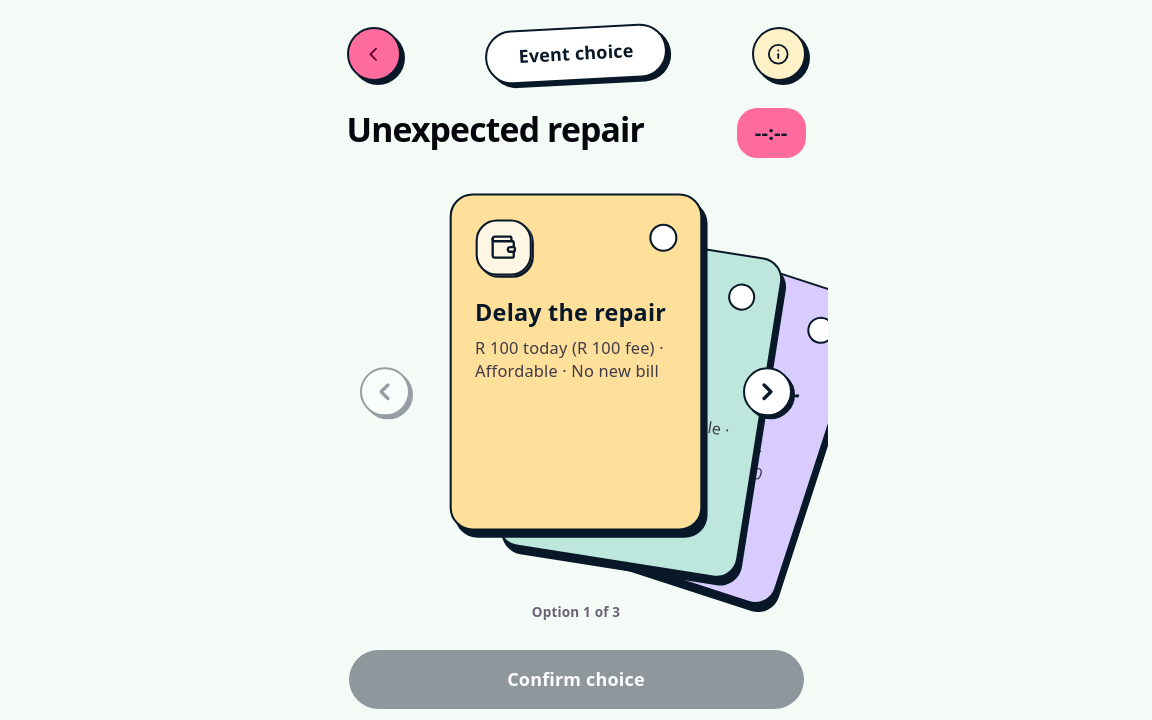
Scenario: Surprise event reveal and decision › shows the compact choice heading and keeps the event details in the info dialog
The image size is (1152, 720).
Expected: the heading "Event choice" is shown, [484, 22, 668, 86]
Expected: the heading "Unexpected repair" is shown, [346, 108, 644, 150]
Step 1. Click the button named "About this event" → (778, 54), box [752, 27, 806, 81]
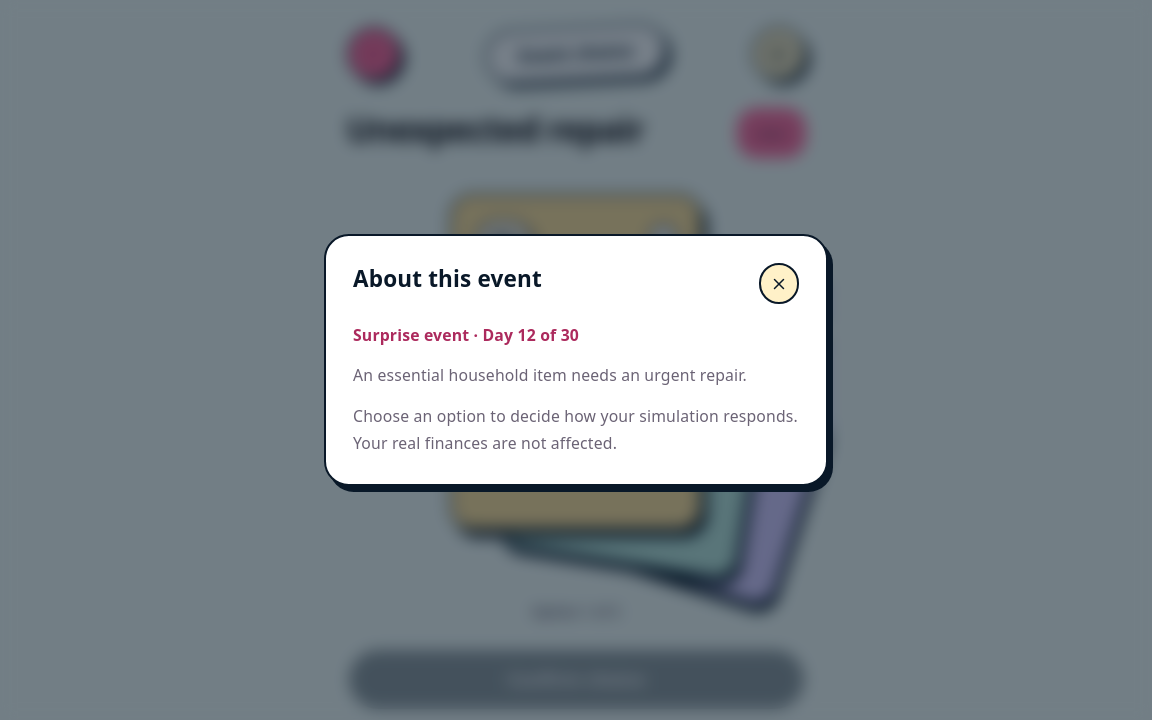
Result: the dialog shows "An essential household item needs an urgent repair." at [353, 364, 747, 386]
Step 2. Click the button named "Close information" → (779, 284), box [758, 263, 799, 304]
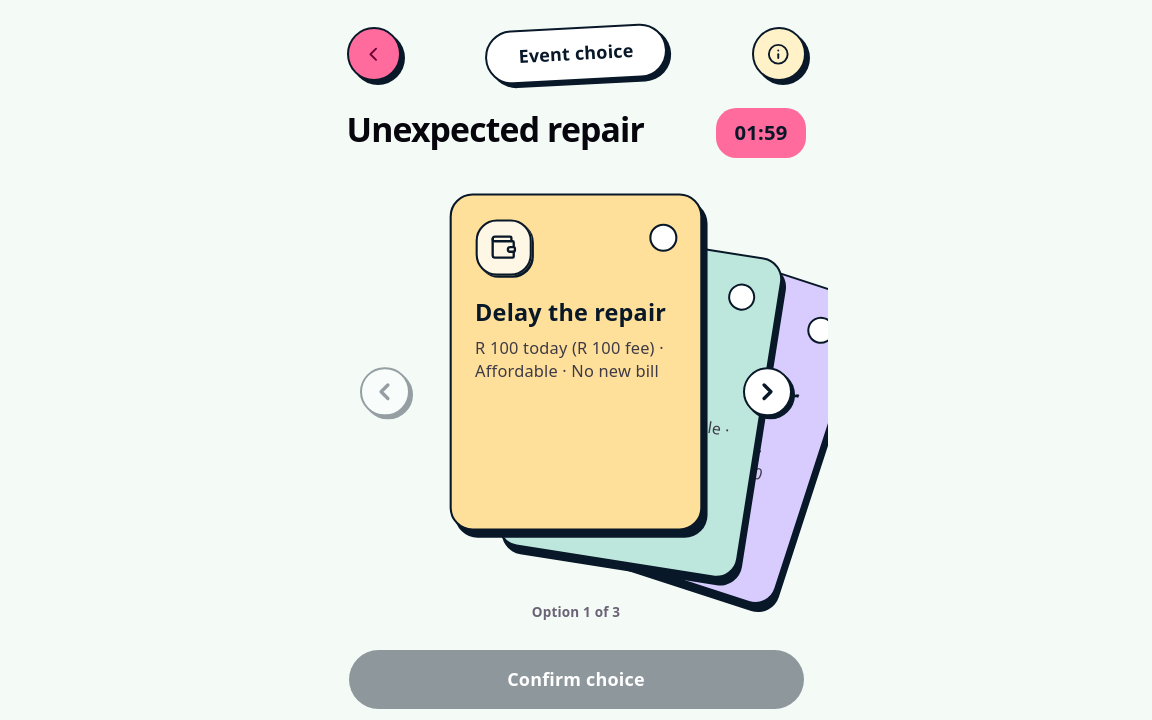
Result: the button named "Previous option" is shown at [360, 367, 410, 416]
Result: the button named "Next option" is shown at [742, 367, 792, 416]
